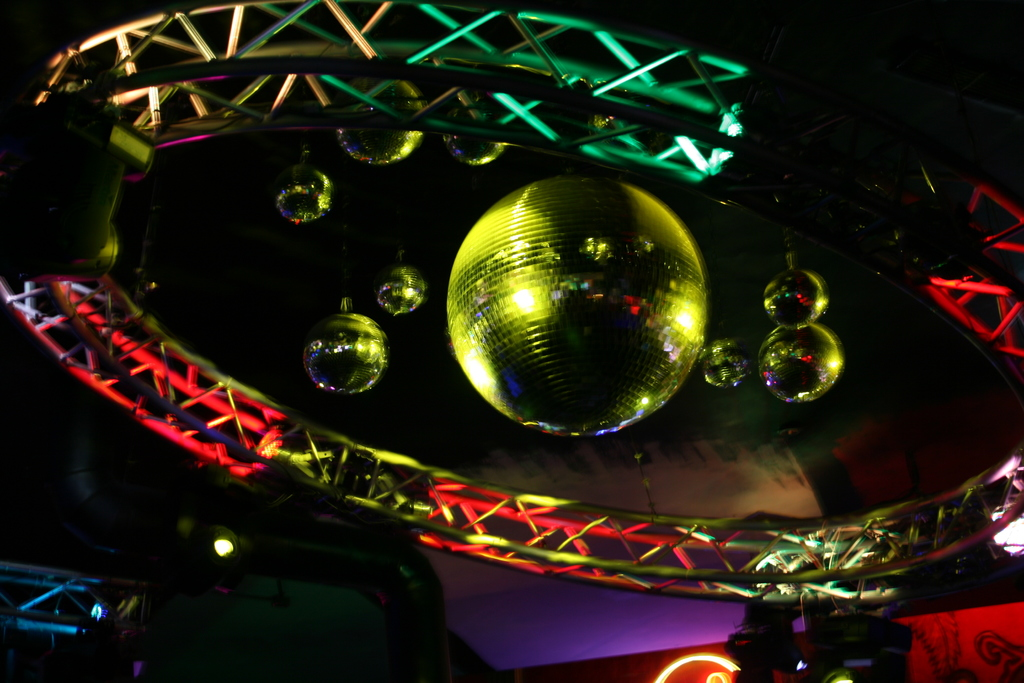Ball: (448, 175, 709, 428), (344, 78, 426, 169), (758, 322, 845, 404), (305, 314, 387, 393), (764, 270, 828, 331), (275, 163, 336, 222), (445, 109, 507, 165), (702, 336, 753, 386), (378, 267, 424, 314)
